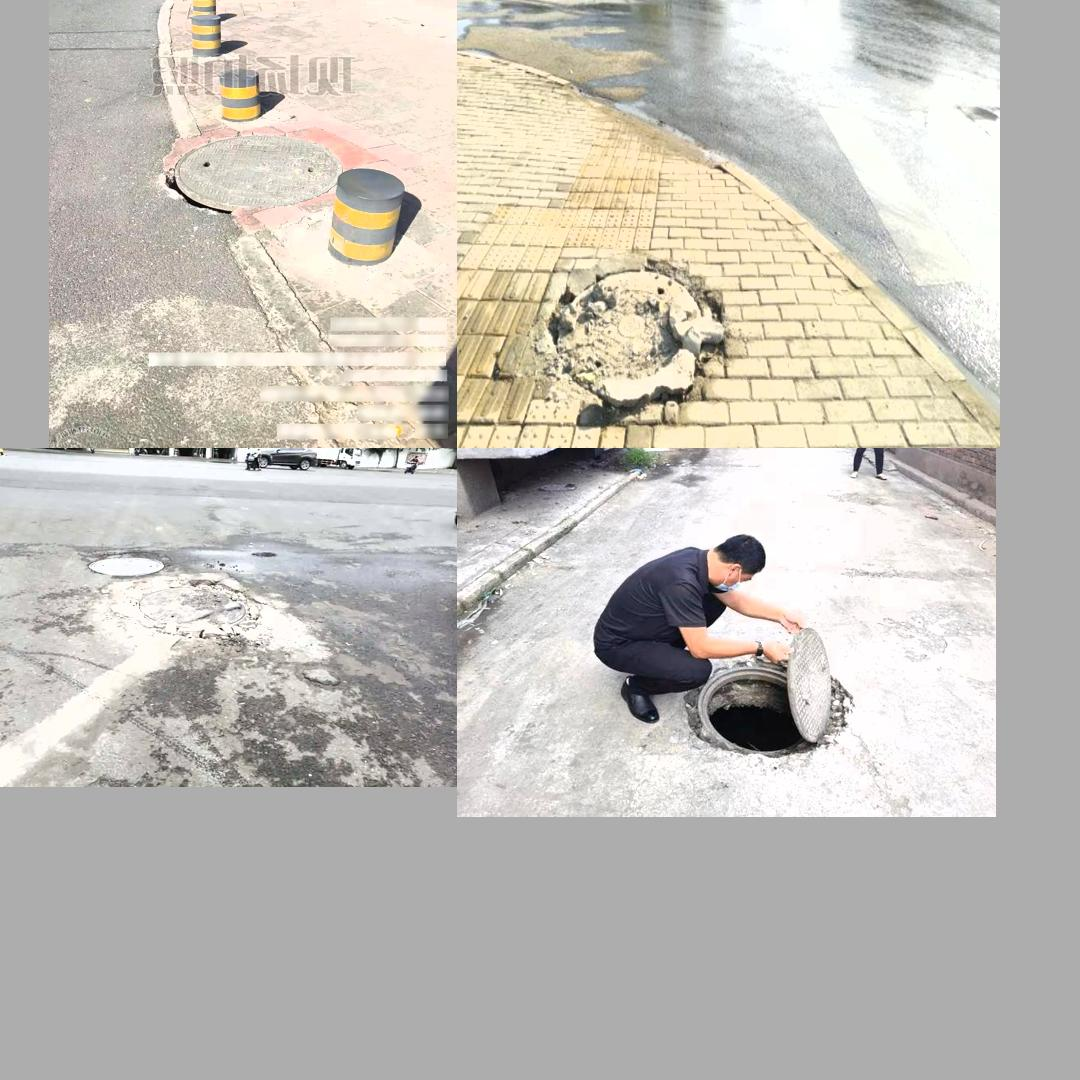circle: (527, 242, 725, 413), (651, 637, 866, 770), (114, 573, 299, 668), (160, 128, 345, 220)
